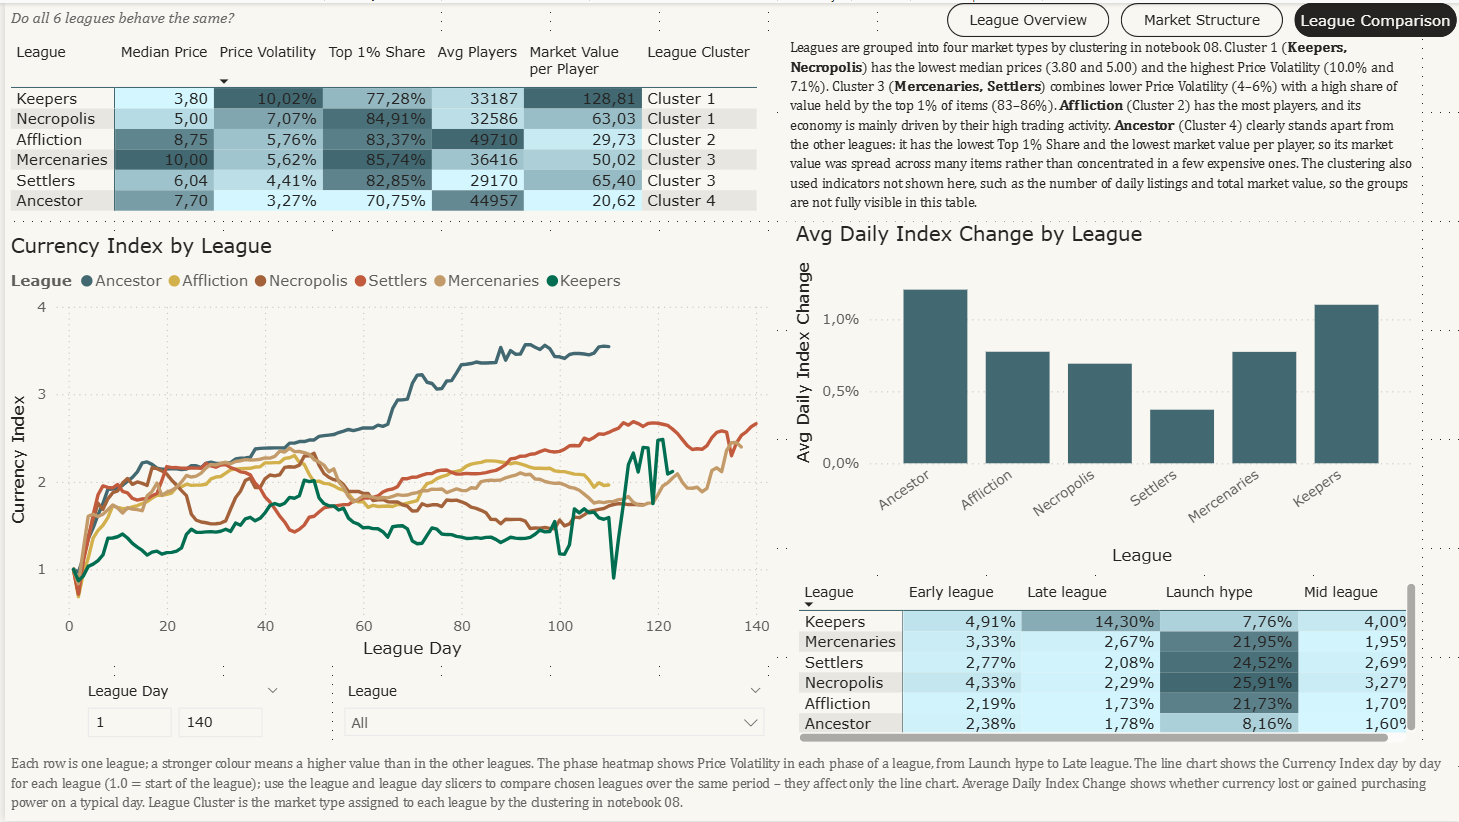

Layout of this report page (visuals, bound fields, positions):
{"tool":"powerbi","page":{"name":"League Comparison","canvas":[1280,720],"ordinal":2},"visuals":[{"type":"textbox","box":[0,0,288.7,41],"z":0},{"type":"textbox","box":[0,656.1,1279.8,64.2],"z":1000},{"type":"pivotTable","fields":{"Rows":["dim_league.league"],"Values":["_Measures.Median Price","_Measures.Price Volatility","_Measures.Top 1% Share","_Measures.Avg Players","_Measures.Market Value per Player","_Measures.League Cluster"]},"box":[0,29.6,678.5,158.1],"z":2000},{"type":"pivotTable","fields":{"Rows":["dim_league.league"],"Columns":["fact_daily_league.phase"],"Values":["_Measures.Price Volatility"]},"box":[694.4,505.3,553.6,150.9],"z":3000},{"type":"lineChart","title":"Currency Index by League","fields":{"Category":["fact_daily_league.league_day"],"Y":["_Measures.Currency Index"],"Series":["dim_league.league"]},"box":[0,203.5,678.5,378.2],"z":4000},{"type":"slicer","fields":{"Values":["fact_daily_league.league_day"]},"box":[59.9,593.3,193.4,62.8],"z":5000},{"type":"slicer","fields":{"Values":["dim_league.league"]},"box":[288.7,593.3,389.8,62.8],"z":6000},{"type":"clusteredColumnChart","title":"Avg Daily Index Change by League","fields":{"Category":["dim_league.league"],"Y":["_Measures.Avg Daily Index Change"]},"box":[691.4,192.9,554,306.5],"z":7000},{"type":"textbox","box":[686.4,25.3,558.7,167.5],"z":8000},{"type":"pageNavigator","box":[830,0,450,30],"z":9000}]}

Visuals, with their boxes in screenshot pixels (x1, y1, x2, y2), scaled from the page's 1280x720 canvas onto the 1459x822 screenshot:
textbox: box=[0, 0, 329, 47]
textbox: box=[0, 749, 1458, 821]
pivotTable - dim_league.league x _Measures.Median Price: box=[0, 34, 773, 214]
pivotTable - dim_league.league x fact_daily_league.phase: box=[792, 577, 1423, 749]
"Currency Index by League" lineChart: box=[0, 232, 773, 664]
slicer - fact_daily_league.league_day: box=[68, 677, 289, 749]
slicer - dim_league.league: box=[329, 677, 773, 749]
"Avg Daily Index Change by League" clusteredColumnChart: box=[788, 220, 1420, 570]
textbox: box=[782, 29, 1419, 220]
pageNavigator: box=[946, 0, 1458, 34]
